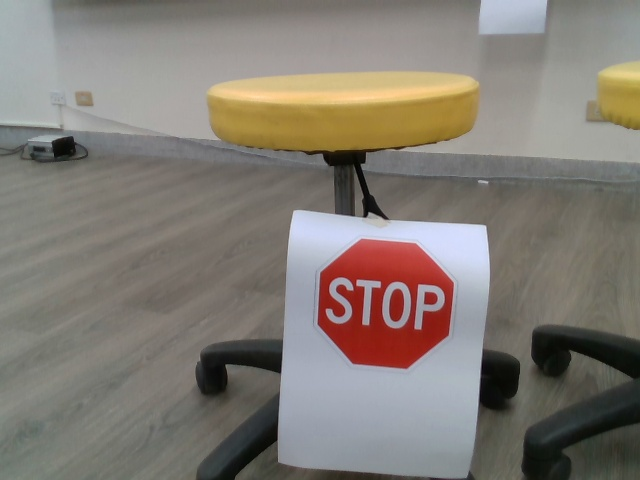stop: (312, 237, 459, 373)
